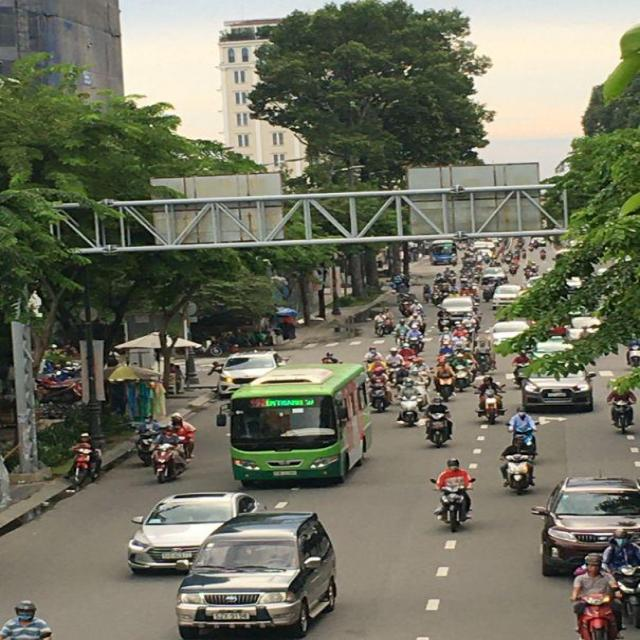bus: (226, 364, 373, 490), (430, 241, 456, 266)
car: (175, 512, 342, 639), (127, 491, 259, 577), (534, 476, 639, 578), (519, 368, 594, 415), (216, 352, 285, 390)
motorcycle: (607, 566, 640, 633), (572, 594, 620, 639), (432, 485, 474, 533), (499, 444, 538, 494), (68, 437, 104, 489), (151, 442, 190, 484), (423, 406, 453, 448), (608, 388, 635, 434)
